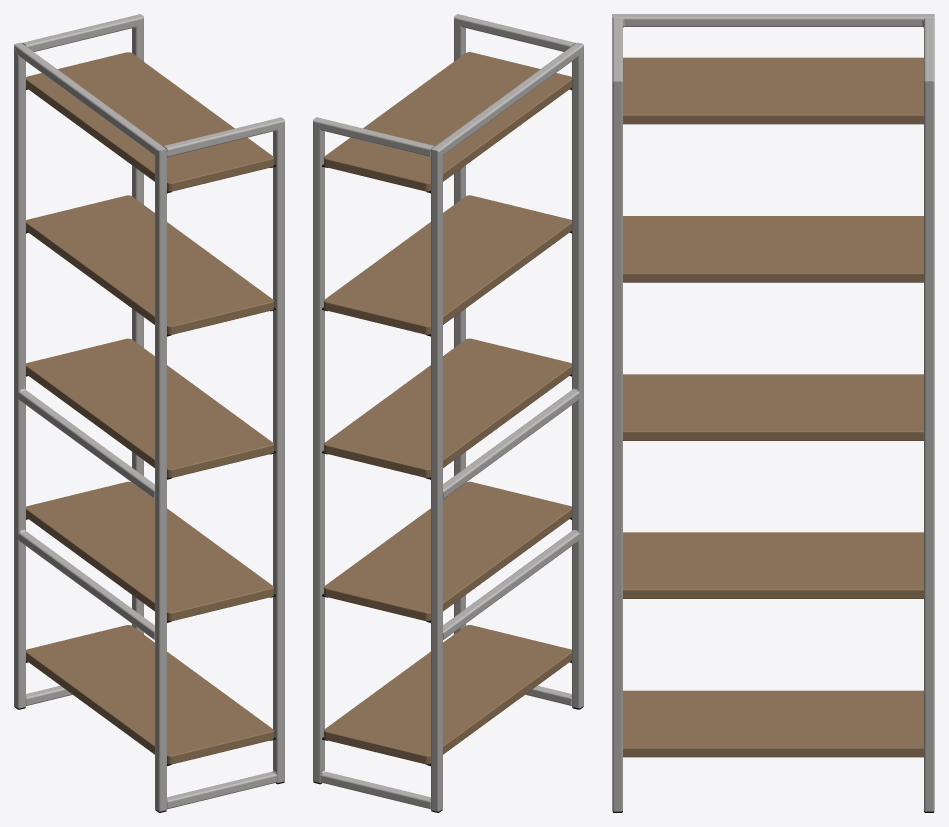
Rendered from Estante (produto final) v1.fbx.
3 views of the same model, side by side, from view 1: azimuth 30°, elevation 25°; view 2: azimuth 150°, elevation 25°; view 3: azimuth 270°, elevation 25° (orthographic). The views are drawn at different scales.
Parts seen in each view (by area): view 1: Body1 (×16); view 2: Body1 (×16); view 3: Body1 (×10).
Part boxes in pixels (x1,y1,x2,y2): Body1 (×16): (14, 14, 284, 811); Body1 (×16): (313, 14, 583, 811); Body1 (×10): (612, 14, 934, 811).
Size of the model in its own units: 300 by 1504 by 600.
